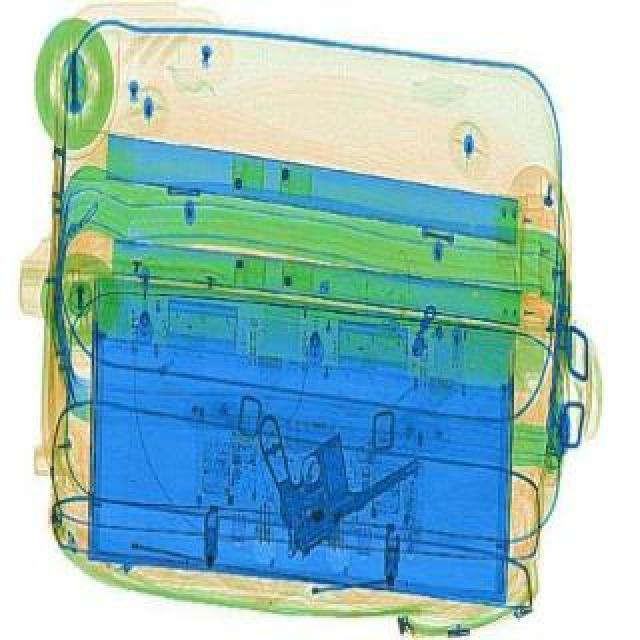gun: (210, 360, 430, 556)
